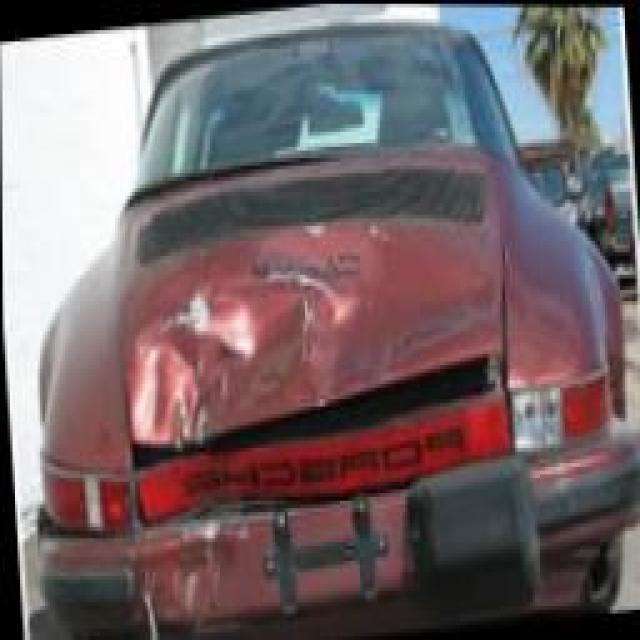replaceable: (130, 249, 474, 388), (116, 409, 230, 620)
